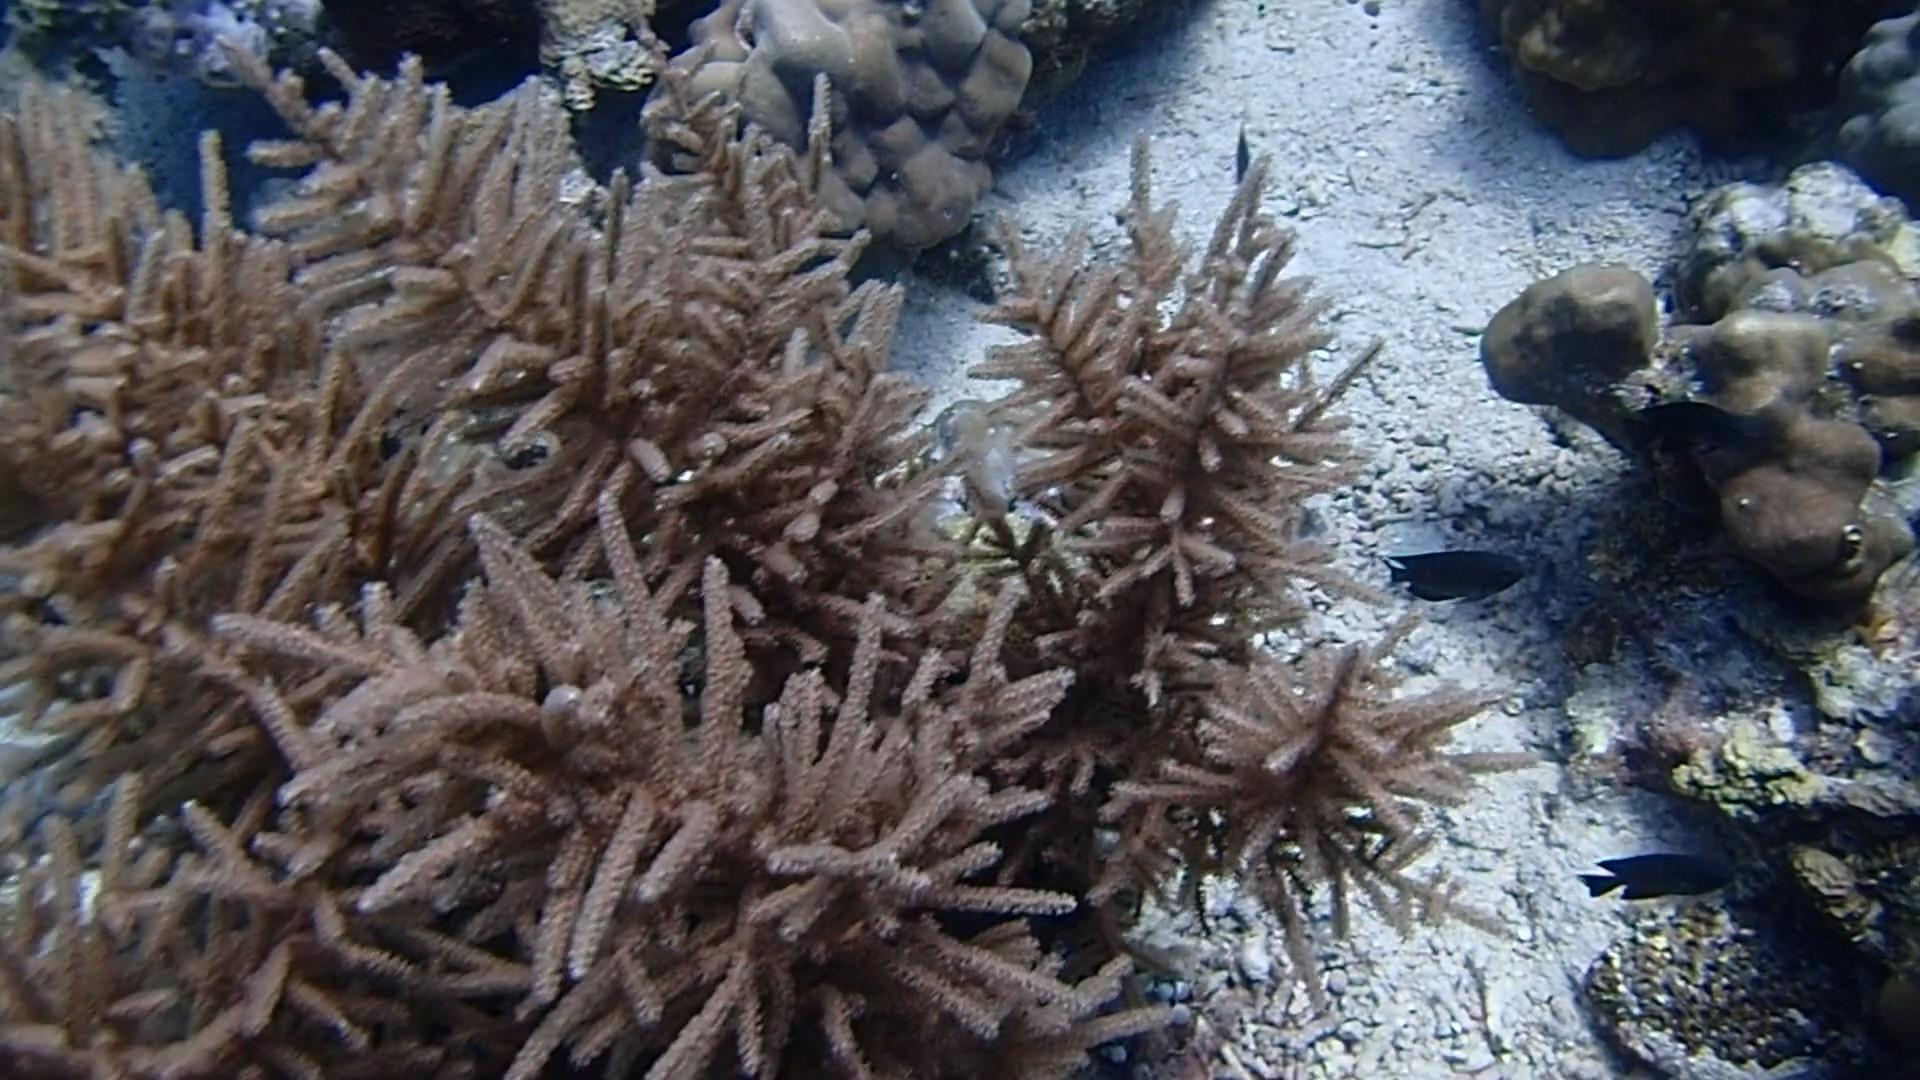Dark Fish: (1604, 382, 1762, 465), (1569, 845, 1738, 914), (1374, 543, 1536, 611)
Yellow Tail: (1225, 115, 1259, 183)
